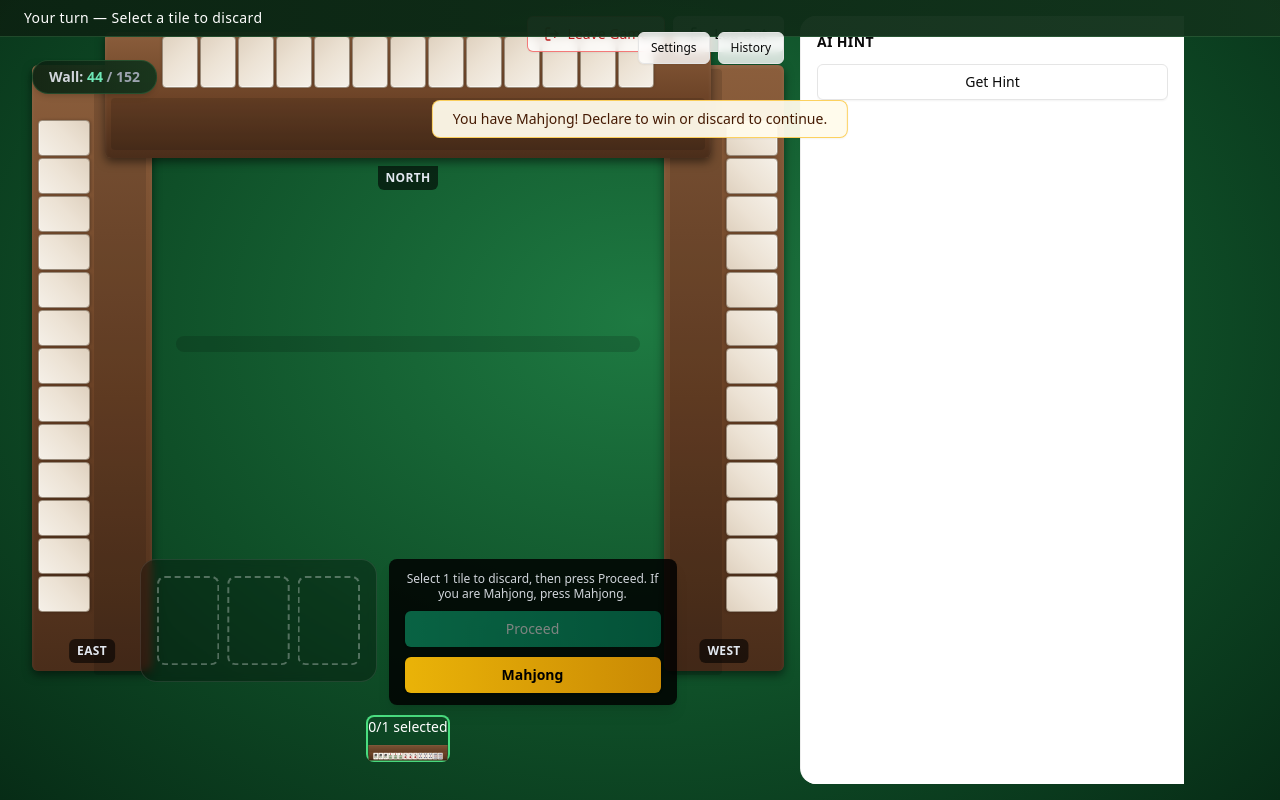
Test case: US-018: Declaring Mahjong (Self-Draw) › AC-2+3: Confirmation dialog and command dispatch › dismisses confirmation dialog when Cancel clicked
The image size is (1280, 800).
Click the button with test id "declare-mahjong-button" at coordinates (532, 675), box [404,657,660,693]
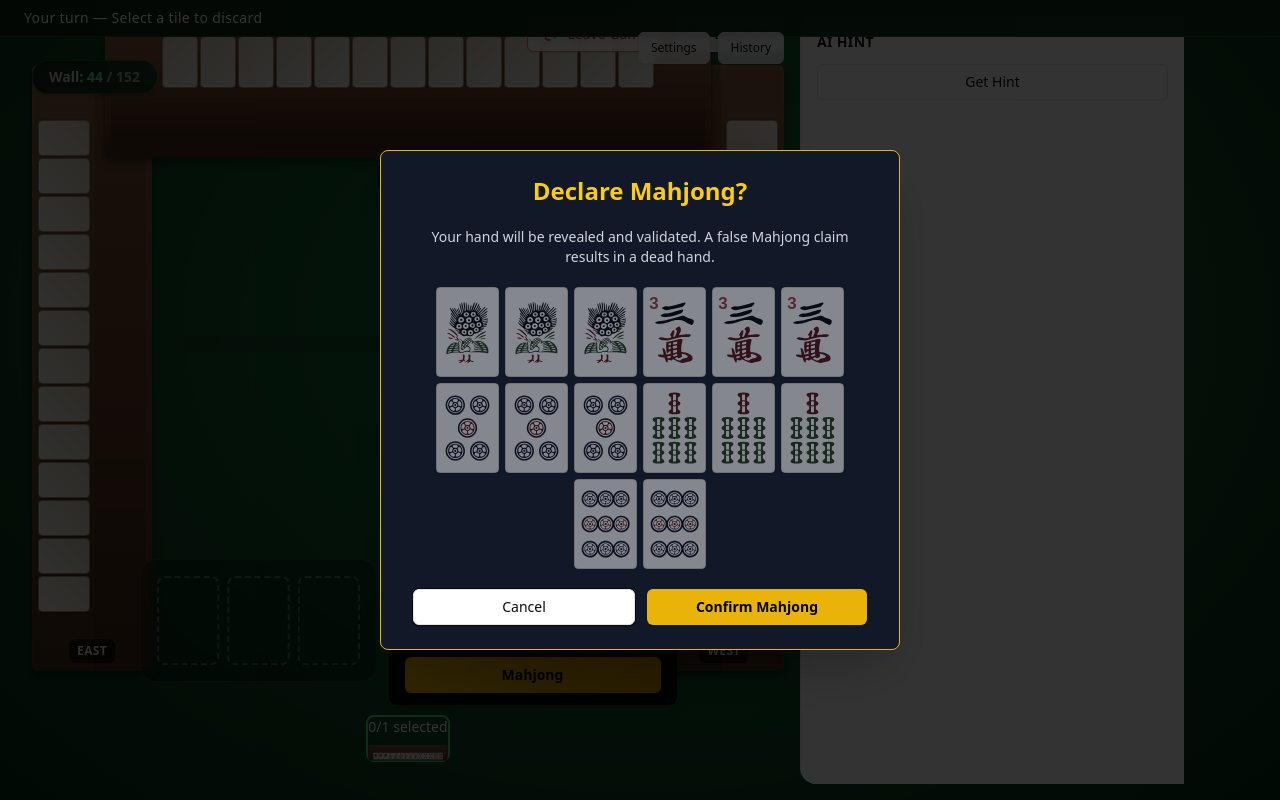
Expected: the dialog with test id "mahjong-confirmation-dialog" is shown, [380,150,900,650]
Click the button "Cancel" at coordinates (524, 607), box [413,589,635,625]
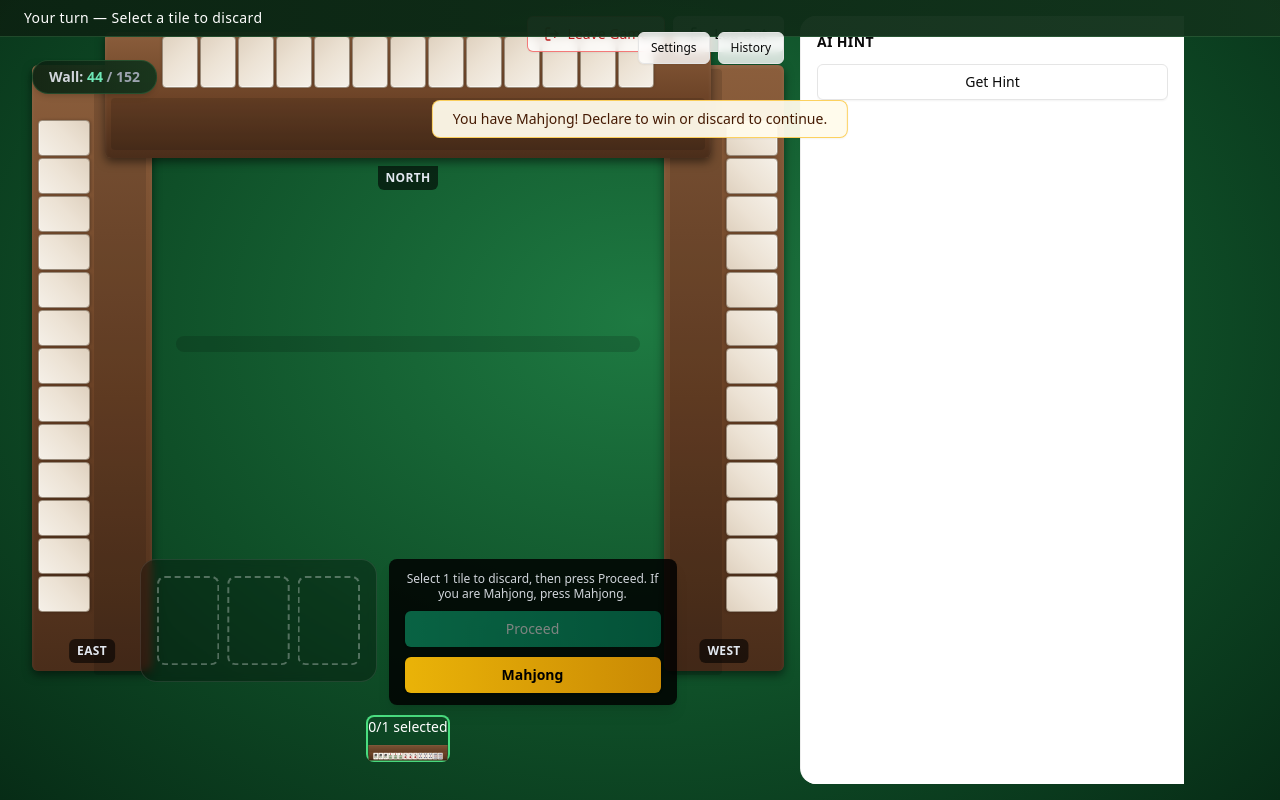
Expected: the dialog with test id "mahjong-confirmation-dialog" is gone
